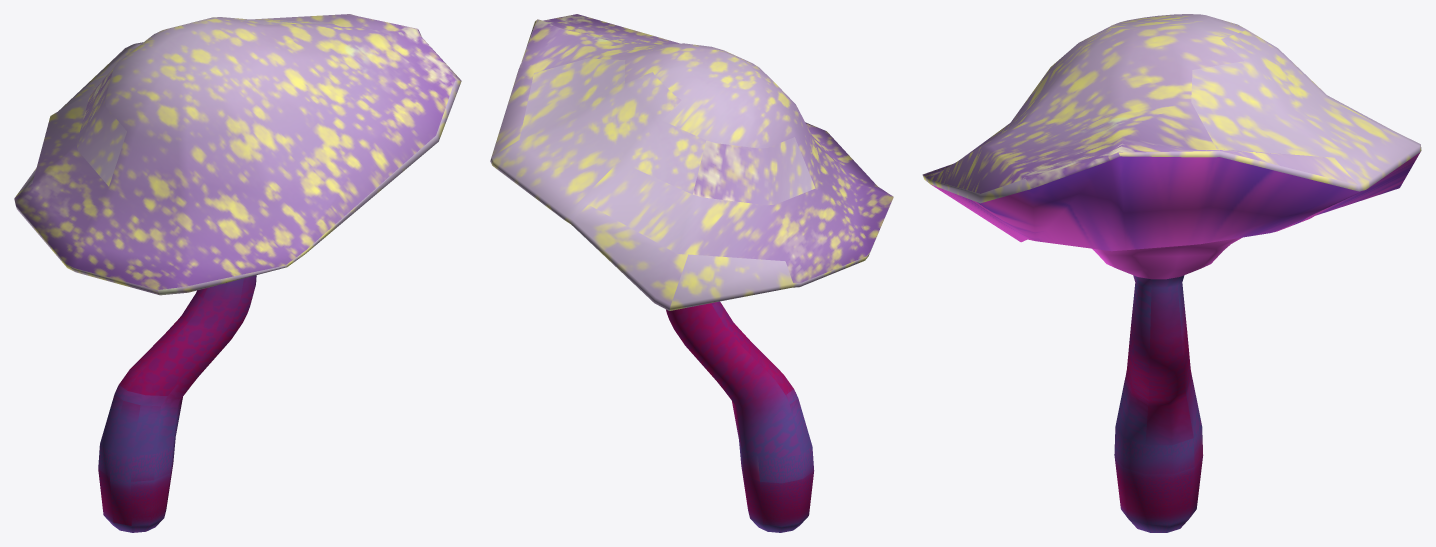
File: bigcap.fbx
3 renders of one model, left to right at view 1: azimuth 30°, elevation 25°; view 2: azimuth 150°, elevation 25°; view 3: azimuth 270°, elevation 25°, orthographic. The views are drawn at different scales.
Parts seen in each view (by area): view 1: Big Cap; view 2: Big Cap; view 3: Big Cap.
Boxes of the visible parts, x1,y1,x2,y2 form: Big Cap: [14, 14, 461, 532]; Big Cap: [490, 14, 893, 532]; Big Cap: [922, 14, 1421, 532].
Size of the model in its own units: 1269 by 1595 by 1316.
